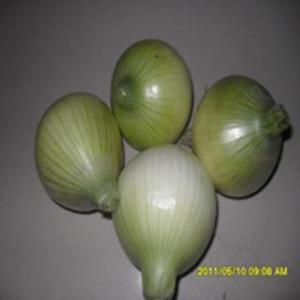onion: (111, 142, 220, 300), (30, 90, 132, 218), (198, 74, 292, 200), (108, 38, 194, 148)
